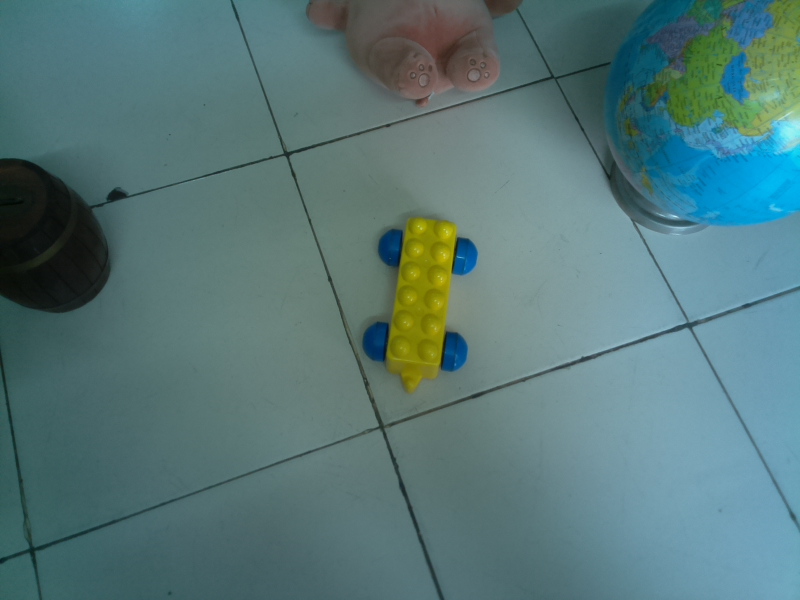toy_Car: (348, 205, 488, 408)
